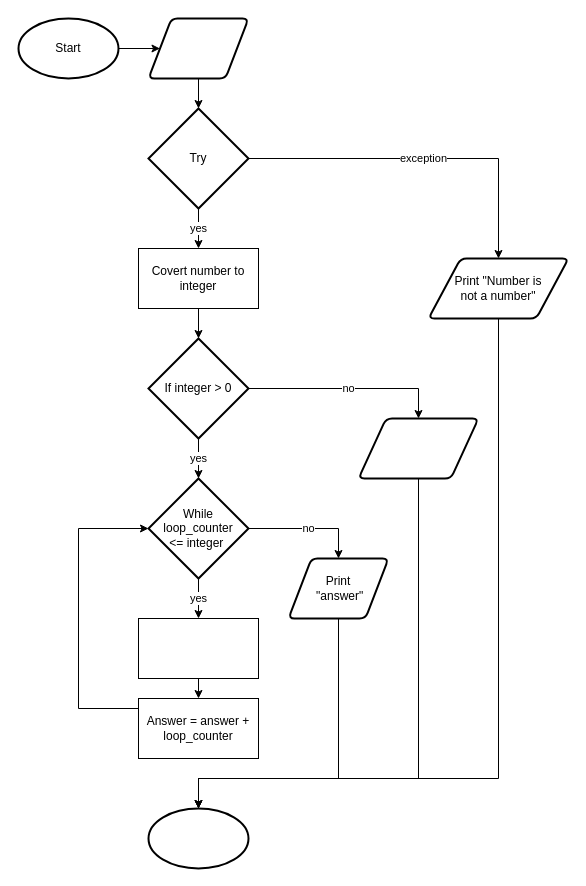
The diagram is 586 pixels wide and 886 high, and some of its shapes have lost their labels. Here are the shapes that lost their labels. From the top down, the centre of each, then its label:
(x=198, y=48): Get number
(x=418, y=448): Print "integer is not positive"
(x=198, y=648): loop_counter = loop_counter + 1
(x=198, y=838): Stop
